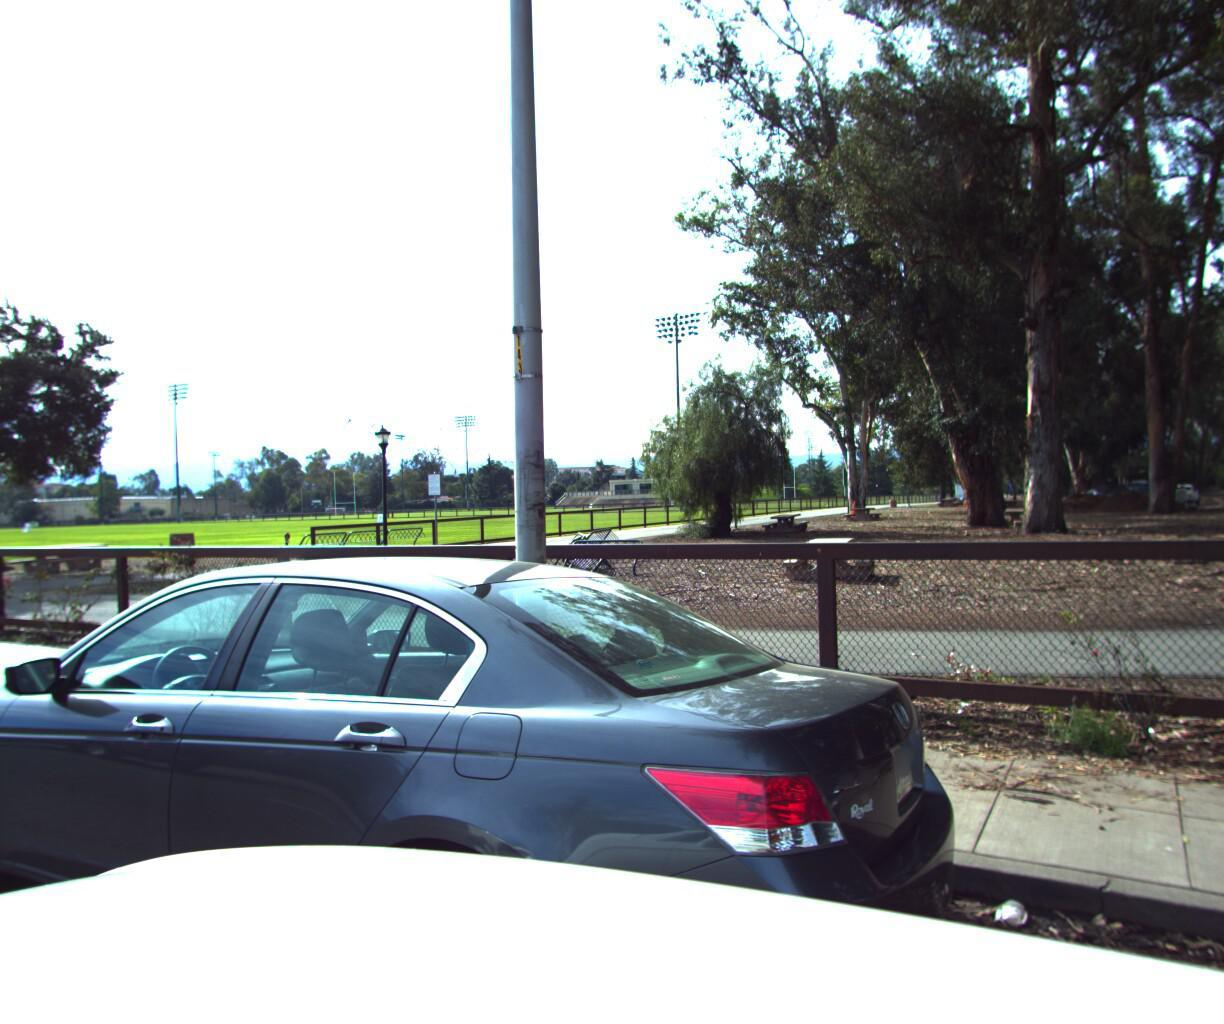car: (0, 544, 988, 1024), (0, 550, 28, 795)
